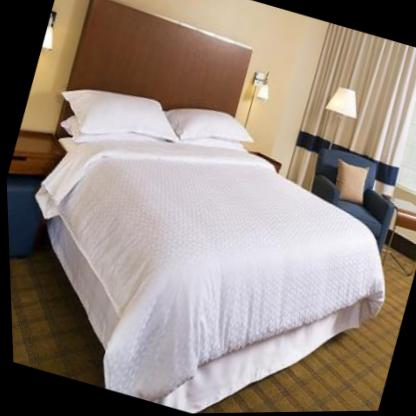Bed: (0, 0, 416, 416)
Chair: (292, 144, 407, 257)
